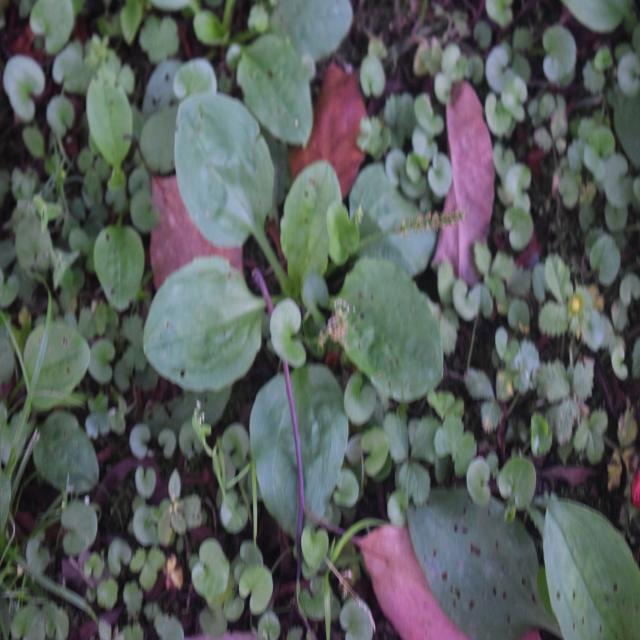plantain: (150, 74, 442, 455)
